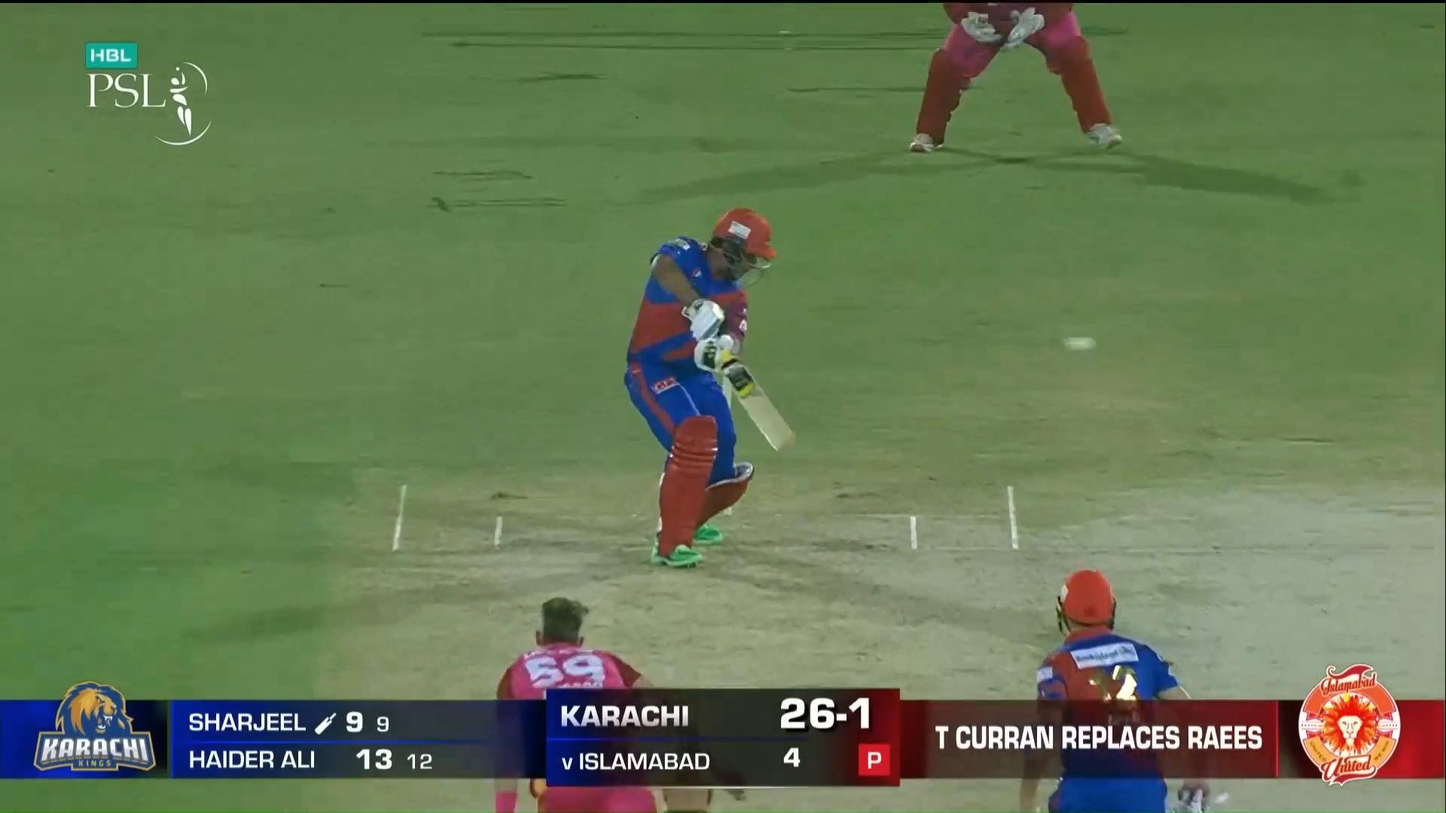batsman: (622, 205, 797, 571)
